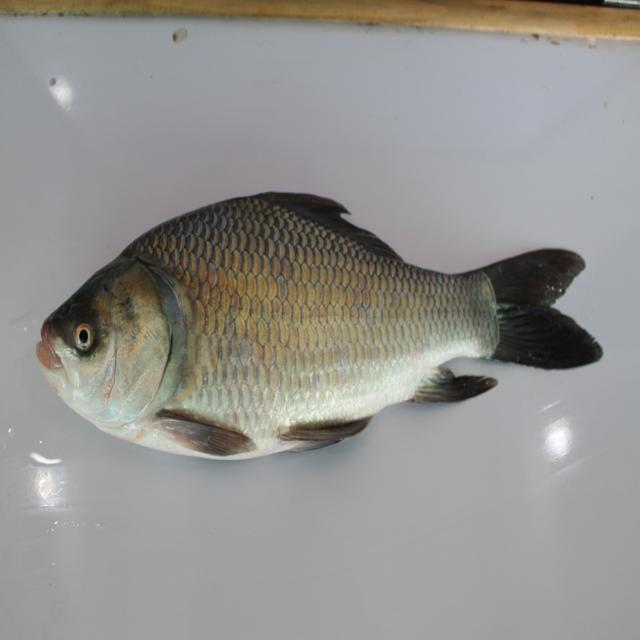Catla: (27, 187, 614, 482)
